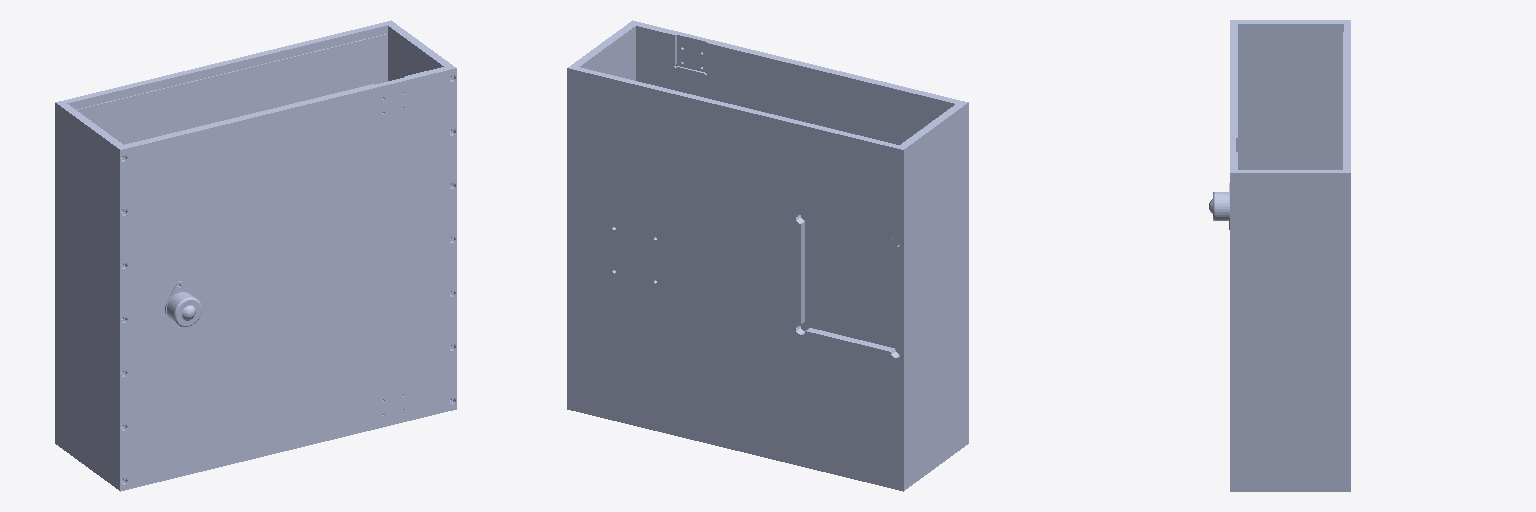
robot.urdf — ssmm:
<?xml version="1.0" encoding="utf-8"?>
<!-- This URDF was automatically created by SolidWorks to URDF Exporter! Originally created by [author] ([email redacted]) 
     Commit Version: 1.5.1-0-g916b5db  Build Version: 1.5.7152.31018
     For more information, please see http://wiki.ros.org/sw_urdf_exporter -->
<robot
  name="ssmm">
  <link
    name="base_link">
    <inertial>
      <origin
        xyz="-0.10646 -0.01803 1.1663E-18"
        rpy="0 0 0" />
      <mass
        value="0.8861" />
      <inertia
        ixx="0.0079901"
        ixy="1.1902E-06"
        ixz="-7.378E-19"
        iyy="0.016382"
        iyz="4.8245E-19"
        izz="0.0084009" />
    </inertial>
    <visual>
      <origin
        xyz="0 0 0"
        rpy="0 0 0" />
      <geometry>
        <mesh
          filename="package://ssmm_gazebo/meshes/base_link.STL" />
      </geometry>
      <material
        name="">
        <color
          rgba="0.79216 0.81961 0.93333 1" />
      </material>
    </visual>
    <collision>
      <origin
        xyz="0 0 0"
        rpy="0 0 0" />
      <geometry>
        <mesh
          filename="package://ssmm_gazebo/meshes/base_link.STL" />
      </geometry>
    </collision>
  </link>
  <link
    name="left_wheel">
    <inertial>
      <origin
        xyz="0 0 0.0105"
        rpy="0 0 0" />
      <mass
        value="0.1112" />
      <inertia
        ixx="5.5328E-05"
        ixy="1.6941E-21"
        ixz="4.7362E-20"
        iyy="5.5328E-05"
        iyz="4.9549E-22"
        izz="0.00010246" />
    </inertial>
    <visual>
      <origin
        xyz="0 0 0"
        rpy="0 0 0" />
      <geometry>
        <mesh
          filename="package://ssmm_gazebo/meshes/left_wheel.STL" />
      </geometry>
      <material
        name="">
        <color
          rgba="0.79216 0.81961 0.93333 1" />
      </material>
    </visual>
    <collision>
      <origin
        xyz="0 0 0"
        rpy="0 0 0" />
      <geometry>
        <mesh
          filename="package://ssmm_gazebo/meshes/left_wheel.STL" />
      </geometry>
    </collision>
  </link>
  <joint
    name="left_wheel_joint"
    type="continuous">
    <origin
      xyz="0 0 -0.1935"
      rpy="0 0 2.5629" />
    <parent
      link="base_link" />
    <child
      link="left_wheel" />
    <axis
      xyz="0 0 0" />
  </joint>
  <link
    name="right_wheel">
    <inertial>
      <origin
        xyz="0 0 0.0105"
        rpy="0 0 0" />
      <mass
        value="0.111202201176881" />
      <inertia
        ixx="5.53276834770733E-05"
        ixy="-5.0821976835258E-21"
        ixz="2.87496771571941E-22"
        iyy="5.53276834770733E-05"
        iyz="4.59960538385888E-22"
        izz="0.000102457638975025" />
    </inertial>
    <visual>
      <origin
        xyz="0 0 0"
        rpy="0 0 0" />
      <geometry>
        <mesh
          filename="package://ssmm_gazebo/meshes/right_wheel.STL" />
      </geometry>
      <material
        name="">
        <color
          rgba="0.792156862745098 0.819607843137255 0.933333333333333 1" />
      </material>
    </visual>
    <collision>
      <origin
        xyz="0 0 0"
        rpy="0 0 0" />
      <geometry>
        <mesh
          filename="package://ssmm_gazebo/meshes/right_wheel.STL" />
      </geometry>
    </collision>
  </link>
  <joint
    name="right_wheel_joint"
    type="continuous">
    <origin
      xyz="0 0 0.1935"
      rpy="3.1416 0 2.5629" />
    <parent
      link="base_link" />
    <child
      link="right_wheel" />
    <axis
      xyz="0 0 0" />
    <limit
      lower="0"
      upper="0"
      effort="0"
      velocity="0" />
  </joint>
  <!-- <link
    name="arm_link">
    <inertial>
      <origin
        xyz="0.29193 -0.00094239 0.16654"
        rpy="0 0 0" />
      <mass
        value="0.097773" />
      <inertia
        ixx="7.0859E-05"
        ixy="2.6762E-05"
        ixz="1.7811E-05"
        iyy="0.0020319"
        iyz="-1.4348E-05"
        izz="0.0020369" />
    </inertial>
    <visual>
      <origin
        xyz="0 0 0"
        rpy="0 0 0" />
      <geometry>
        <mesh
          filename="package://ssmm_gazebo/meshes/arm_link.STL" />
      </geometry>
      <material
        name="">
        <color
          rgba="0.50588 0.52941 0.54902 1" />
      </material>
    </visual>
    <collision>
      <origin
        xyz="0 0 0"
        rpy="0 0 0" />
      <geometry>
        <mesh
          filename="package://ssmm_gazebo/meshes/arm_link.STL" />
      </geometry>
    </collision>
  </link>
  <joint
    name="arm_link_joint"
    type="prismatic">
    <origin
      xyz="-0.2205 0.031 0.009"
      rpy="-1.5708 0 0" />
    <parent
      link="base_link" />
    <child
      link="arm_link" />
    <axis
      xyz="0 0 0" />
    <limit
      lower="0"
      upper="0"
      effort="0"
      velocity="0" />
  </joint>
  <link
    name="arm_slider">
    <inertial>
      <origin
        xyz="0.010445 -0.0080776 0.061443"
        rpy="0 0 0" />
      <mass
        value="0.018739" />
      <inertia
        ixx="2.5242E-06"
        ixy="1.424E-08"
        ixz="-1.131E-08"
        iyy="1.272E-05"
        iyz="3.6949E-10"
        izz="1.0315E-05" />
    </inertial>
    <visual>
      <origin
        xyz="0 0 0"
        rpy="0 0 0" />
      <geometry>
        <mesh
          filename="package://ssmm_gazebo/meshes/arm_slider.STL" />
      </geometry>
      <material
        name="">
        <color
          rgba="0.79216 0.81961 0.93333 1" />
      </material>
    </visual>
    <collision>
      <origin
        xyz="0 0 0"
        rpy="0 0 0" />
      <geometry>
        <mesh
          filename="package://ssmm_gazebo/meshes/arm_slider.STL" />
      </geometry>
    </collision>
  </link>
  <joint
    name="arm_slider_joint"
    type="prismatic">
    <origin
      xyz="0.08 -0.00099999 0.1574"
      rpy="1.5708 0 1.5708" />
    <parent
      link="arm_link" />
    <child
      link="arm_slider" />
    <axis
      xyz="0 0 0" />
    <limit
      lower="0"
      upper="0"
      effort="0"
      velocity="0" />
  </joint>
  <link
    name="ee_rotation">
    <inertial>
      <origin
        xyz="-1.0314E-12 -0.011623 -0.020516"
        rpy="0 0 0" />
      <mass
        value="0.044631" />
      <inertia
        ixx="1.2558E-05"
        ixy="5.3565E-15"
        ixz="-1.1577E-15"
        iyy="7.3709E-06"
        iyz="-1.5619E-08"
        izz="1.0943E-05" />
    </inertial>
    <visual>
      <origin
        xyz="0 0 0"
        rpy="0 0 0" />
      <geometry>
        <mesh
          filename="package://ssmm_gazebo/meshes/ee_rotation.STL" />
      </geometry>
      <material
        name="">
        <color
          rgba="0.81961 0.81961 0.81961 1" />
      </material>
    </visual>
    <collision>
      <origin
        xyz="0 0 0"
        rpy="0 0 0" />
      <geometry>
        <mesh
          filename="package://ssmm_gazebo/meshes/ee_rotation.STL" />
      </geometry>
    </collision>
  </link>
  <joint
    name="ee_rotation_joint"
    type="revolute">
    <origin
      xyz="0.5618 0.009 0.1624"
      rpy="1.5708 0 1.5708" />
    <parent
      link="arm_link" />
    <child
      link="ee_rotation" />
    <axis
      xyz="0 0 0" />
    <limit
      lower="0"
      upper="0"
      effort="0"
      velocity="0" />
  </joint>
  <link
    name="gripper_base">
    <inertial>
      <origin
        xyz="3.0749E-11 -5.5511E-17 -0.029701"
        rpy="0 0 0" />
      <mass
        value="0.026833" />
      <inertia
        ixx="2.7839E-05"
        ixy="-6.6879E-17"
        ixz="5.7523E-15"
        iyy="3.0641E-05"
        iyz="-1.8229E-20"
        izz="2.2283E-05" />
    </inertial>
    <visual>
      <origin
        xyz="0 0 0"
        rpy="0 0 0" />
      <geometry>
        <mesh
          filename="package://ssmm_gazebo/meshes/gripper_base.STL" />
      </geometry>
      <material
        name="">
        <color
          rgba="0.50588 0.52941 0.54902 1" />
      </material>
    </visual>
    <collision>
      <origin
        xyz="0 0 0"
        rpy="0 0 0" />
      <geometry>
        <mesh
          filename="package://ssmm_gazebo/meshes/gripper_base.STL" />
      </geometry>
    </collision>
  </link>
  <joint
    name="gripper_base_fixed"
    type="fixed">
    <origin
      xyz="0.0375 0 0.0361"
      rpy="1.5708 0 1.5708" />
    <parent
      link="ee_rotation" />
    <child
      link="gripper_base" />
    <axis
      xyz="0 0 0" />
  </joint>
  <link
    name="camera_link1">
    <inertial>
      <origin
        xyz="1.7998E-17 -1.3878E-17 0.0066613"
        rpy="0 0 0" />
      <mass
        value="0.0097471" />
      <inertia
        ixx="1.218E-06"
        ixy="-5.6483E-21"
        ixz="-1.3889E-21"
        iyy="2.0657E-06"
        iyz="-6.5508E-22"
        izz="2.8465E-06" />
    </inertial>
    <visual>
      <origin
        xyz="0 0 0"
        rpy="0 0 0" />
      <geometry>
        <mesh
          filename="package://ssmm_gazebo/meshes/camera_link1.STL" />
      </geometry>
      <material
        name="">
        <color
          rgba="0.81961 0.81961 0.81961 1" />
      </material>
    </visual>
    <collision>
      <origin
        xyz="0 0 0"
        rpy="0 0 0" />
      <geometry>
        <mesh
          filename="package://ssmm_gazebo/meshes/camera_link1.STL" />
      </geometry>
    </collision>
  </link>
  <joint
    name="camera_link1_joint"
    type="revolute">
    <origin
      xyz="-0.1065 1.3045 0.0205"
      rpy="-1.5708 0 3.1416" />
    <parent
      link="base_link" />
    <child
      link="camera_link1" />
    <axis
      xyz="0 0 0" />
    <limit
      lower="0"
      upper="0"
      effort="0"
      velocity="0" />
  </joint>
  <link
    name="camera_link2">
    <inertial>
      <origin
        xyz="-6.5919E-17 4.0115E-18 0.01995"
        rpy="0 0 0" />
      <mass
        value="0.0098068" />
      <inertia
        ixx="9.3764E-07"
        ixy="-2.2618E-22"
        ixz="3.8224E-21"
        iyy="3.0514E-06"
        iyz="6.2961E-22"
        izz="3.106E-06" />
    </inertial>
    <visual>
      <origin
        xyz="0 0 0"
        rpy="0 0 0" />
      <geometry>
        <mesh
          filename="package://ssmm_gazebo/meshes/camera_link2.STL" />
      </geometry>
      <material
        name="">
        <color
          rgba="0.79216 0.81961 0.93333 1" />
      </material>
    </visual>
    <collision>
      <origin
        xyz="0 0 0"
        rpy="0 0 0" />
      <geometry>
        <mesh
          filename="package://ssmm_gazebo/meshes/camera_link2.STL" />
      </geometry>
    </collision>
  </link>
  <joint
    name="camera_link2_joint"
    type="revolute">
    <origin
      xyz="0 0 0.039"
      rpy="0 0 -1.5708" />
    <parent
      link="camera_link1" />
    <child
      link="camera_link2" />
    <axis
      xyz="0 0 0" />
    <limit
      lower="0"
      upper="0"
      effort="0"
      velocity="0" />
  </joint> --> -->
</robot>

--- Facts derived from the render (not from the file) ---
Views: 3 orthographic renders of the robot side by side, from view 1: azimuth 30°, elevation 25°; view 2: azimuth 150°, elevation 25°; view 3: azimuth 270°, elevation 25°.
Robot: ssmm — 3 links, 2 joints (2 continuous); root link base_link; default pose: every joint at zero.
Links seen in each view (by area): view 1: base_link; view 2: base_link; view 3: base_link.
Link boxes in pixels (left/top/right/bottom): base_link: left=55, top=20, right=456, bottom=491; base_link: left=567, top=20, right=968, bottom=491; base_link: left=1209, top=20, right=1350, bottom=491.
Bounding box of the posed robot: 0.34 × 0.1339 × 0.33 m (x, y, z).
1 mesh visuals loaded from 3 distinct referenced files (1 binary STL); not drawn: 2 (reference not matched to a file when rendering).